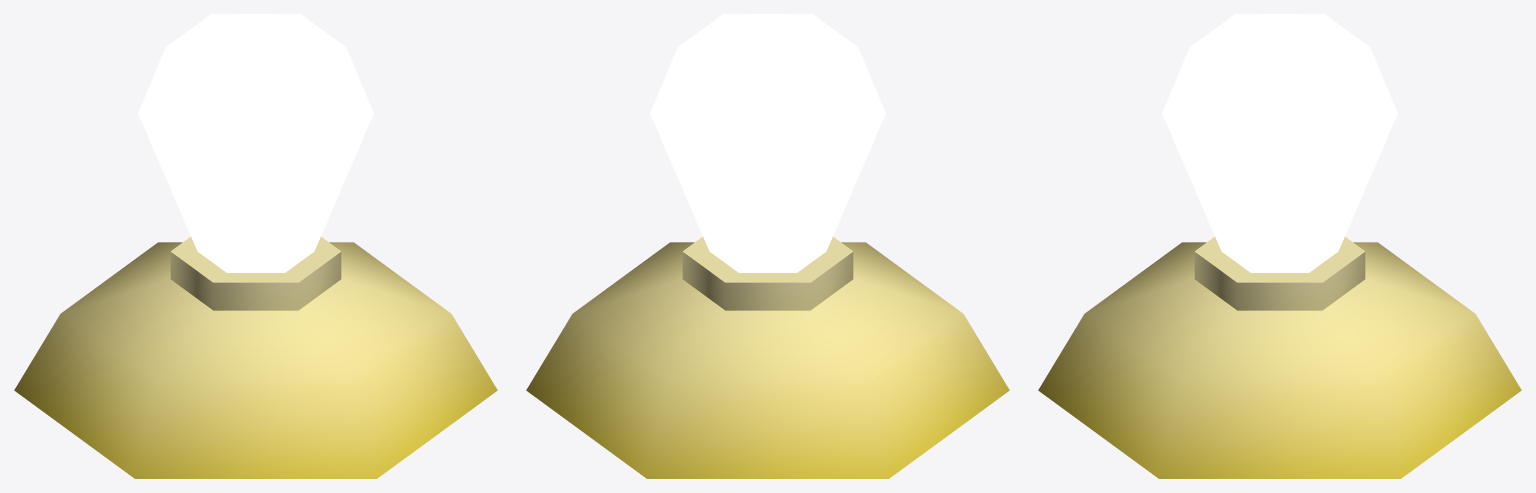
File: Focus-col.glb
The picture shows the model from 3 angles, left to right: view 1: azimuth 30°, elevation 25°; view 2: azimuth 150°, elevation 25°; view 3: azimuth 270°, elevation 25°; orthographic projection.
Parts seen in each view (by area): view 1: Focus-col; view 2: Focus-col; view 3: Focus-col.
Boxes of the visible parts, x1,y1,x2,y2 form: Focus-col: [14, 14, 497, 478]; Focus-col: [526, 14, 1009, 478]; Focus-col: [1038, 14, 1521, 478].
Bounding box in the file's own units: 0.3079 × 0.3052 × 0.3555.
1 material, 1 textured.
